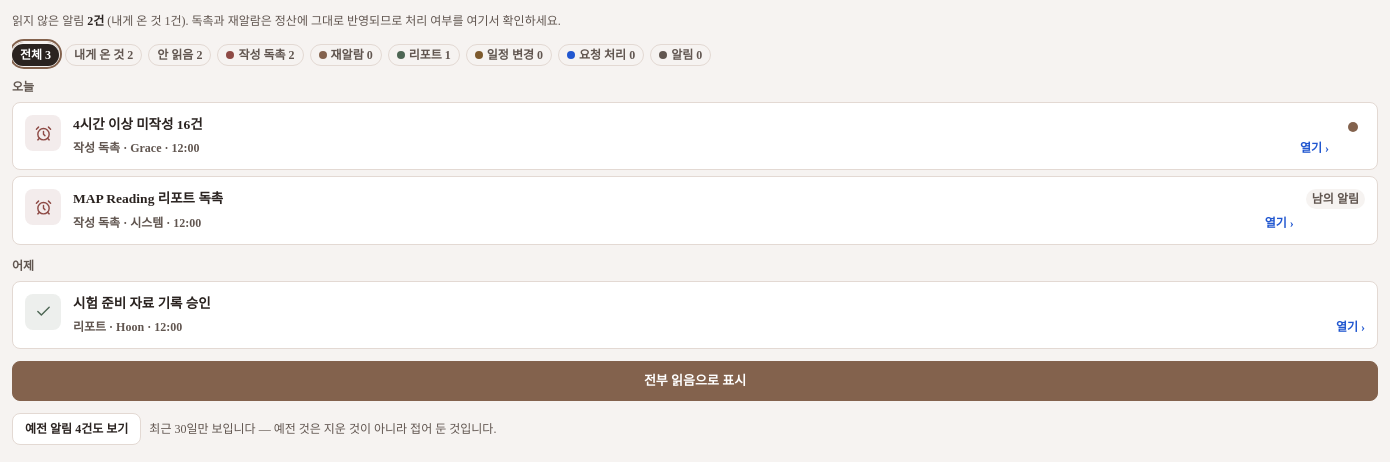
분류 칩은 서버가 준 라벨로 만들어지고 누르면 그 분류만 남는다 (§16)
Expected: the button "전체 3" is shown, [12, 42, 59, 66]
Expected: the button "안 읽음 2" is shown, [148, 42, 211, 66]
Click the button "리포트 1". click: [424, 54]
box: [388, 42, 460, 66]
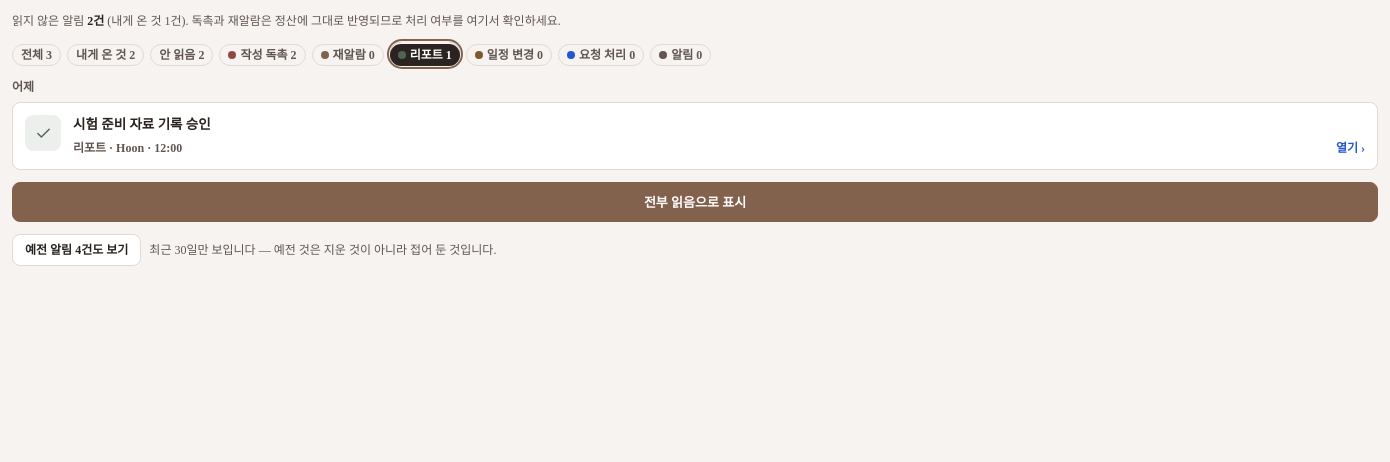
Expected: the text "시험 준비 자료 기록 승인" is shown, [73, 117, 211, 132]
Expected: the text "4시간 이상 미작성" is gone
